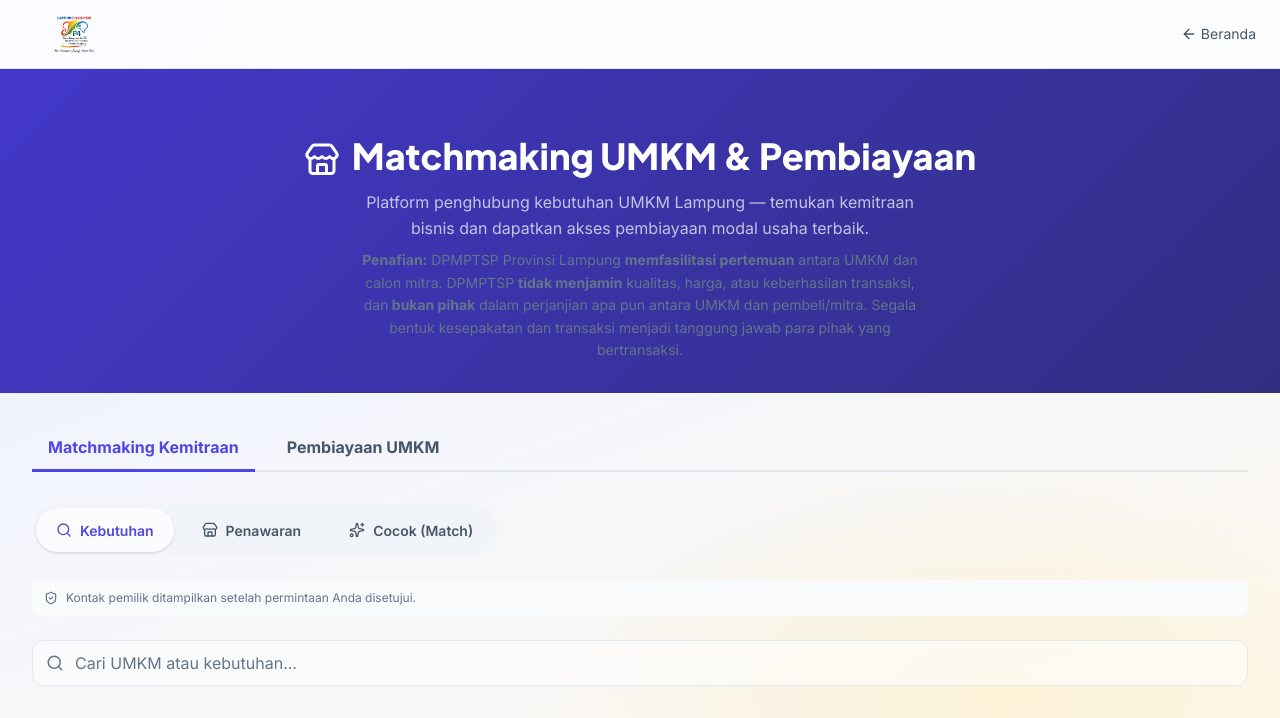
it: UMKM publik: pemuatan listing/match (T6) › tab Cocok (Match) › match sukses dengan baris: menampilkan pasangan
The width and height of the screenshot is (1280, 718).
Click the button "Cocok (Match)".
click(411, 530)  # box [329,508,493,552]
(page scrolled)
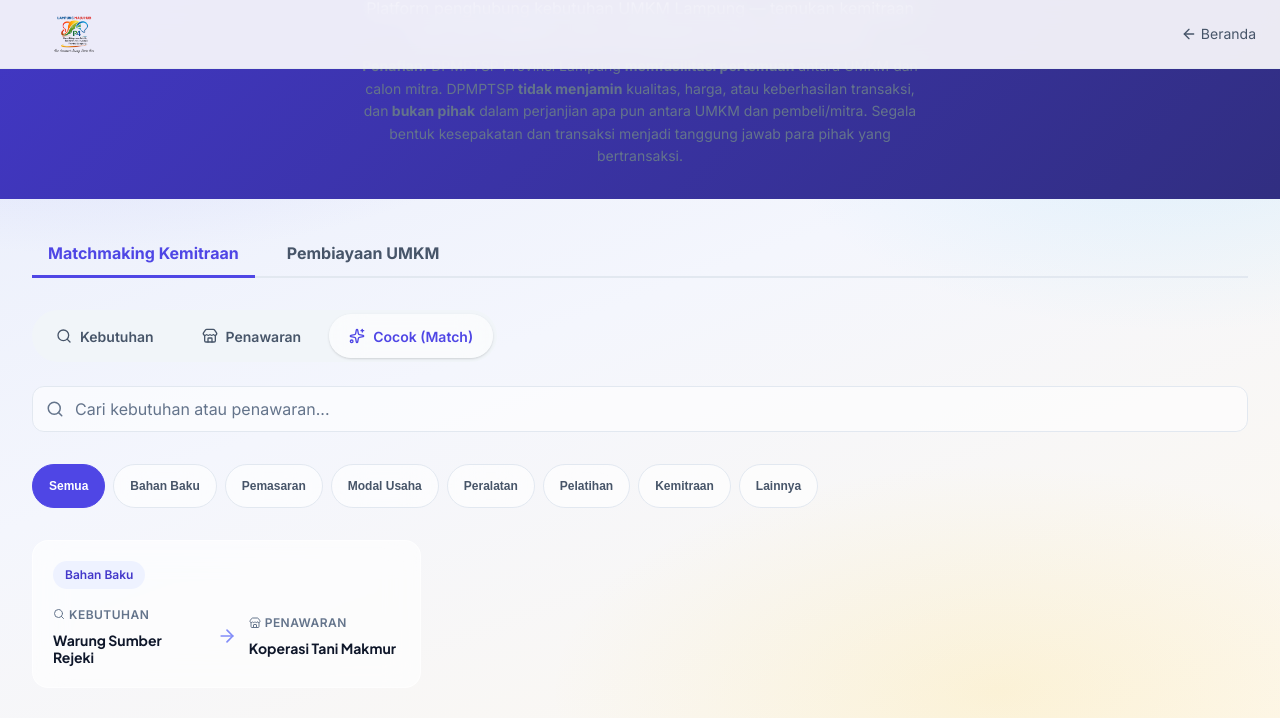
Result: the heading "Warung Sumber Rejeki" is shown at [53,631,162,666]
Result: the heading "Koperasi Tani Makmur" is shown at [249,640,400,658]
